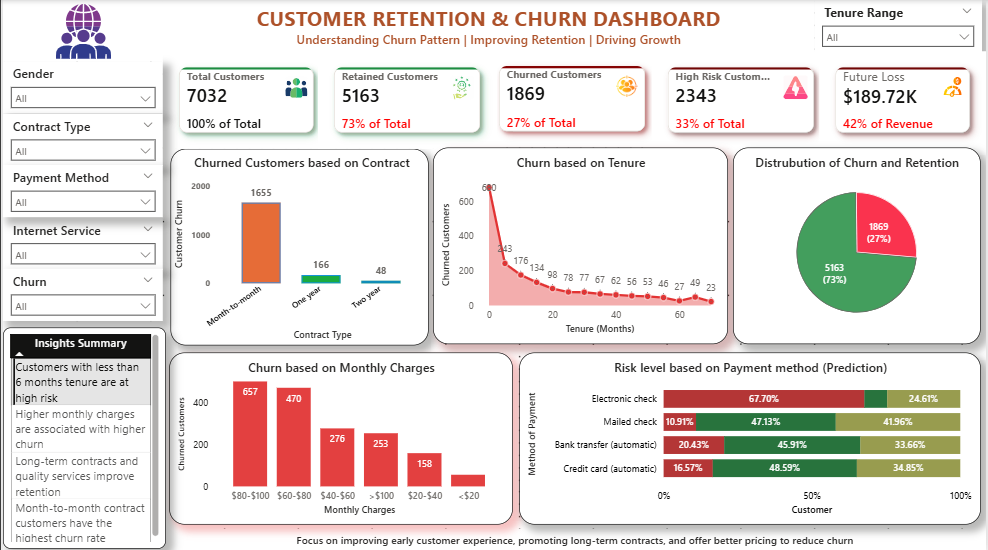

The page's visual inventory and layout, read from the dashboard file:
{"tool":"powerbi","page":{"name":"Executive Overview","canvas":[1280,720],"ordinal":0},"visuals":[{"type":"slicer","fields":{"Values":["Churn_Dashboard_Data.Tenure Group"]},"box":[1056,0,218,70],"z":0},{"type":"cardVisual","fields":{"Data":["Churn_Dashboard_Data.Total Customers"]},"box":[208,66,217.3,127],"z":0,"group":"g1"},{"type":"cardVisual","fields":{"Data":["Churn_Dashboard_Data.Churned Customers"]},"box":[624.1,65,232.8,127],"z":1000,"group":"g1"},{"type":"slicer","fields":{"Values":["Churn_Dashboard_Data.Gender"]},"box":[0,80,208,67.6],"z":1000,"group":"g2"},{"type":"cardVisual","fields":{"Data":["Churn_Dashboard_Data.Retained Customers"]},"box":[409.8,66,232.8,127],"z":2000,"group":"g1"},{"type":"slicer","fields":{"Values":["Churn_Dashboard_Data.Contract"]},"box":[0,147.6,208,67.6],"z":2000,"group":"g2"},{"type":"textbox","box":[224,688,1040,32],"z":2000},{"type":"textbox","box":[208,0,848,80],"z":3000},{"type":"cardVisual","fields":{"Data":["Churn_Dashboard_Data.High Risk Customers"]},"box":[844.4,66,232.8,127],"z":3000,"group":"g1"},{"type":"slicer","fields":{"Values":["Churn_Dashboard_Data.Internet Service"]},"box":[0,282.8,208,67.6],"z":3000,"group":"g2"},{"type":"cardVisual","fields":{"Data":["Churn_Dashboard_Data.Future Loss"]},"box":[1061.7,66,217.3,127],"z":4000,"group":"g1"},{"type":"clusteredColumnChart","title":"Churned Customers based on  Contract ","fields":{"Category":["Churn_Dashboard_Data.Contract"],"Y":["Churn_Dashboard_Data.Churn By Contract"]},"box":[218,193,336,256],"z":4000},{"type":"slicer","fields":{"Values":["Churn_Dashboard_Data.Payment Method"]},"box":[0,215.2,208,67.6],"z":4000,"group":"g2"},{"type":"group","id":"g1","title":"Group 1","box":[208,65,1071,128],"z":5000},{"type":"slicer","fields":{"Values":["Churn_Dashboard_Data.Churn"]},"box":[0,350.4,208,67.6],"z":5000,"group":"g2"},{"type":"group","id":"g2","title":"Group 2","box":[0,80,208,338],"z":6000},{"type":"lineChart","title":"Churn based on Tenure","fields":{"Y":["Churn_Dashboard_Data.Churn Rate"],"Category":["Churn_Dashboard_Data.Tenure (bins)"]},"box":[560,192,384,256],"z":7000},{"type":"pieChart","title":"Distrubution of Churn and Retention","fields":{"Y":["Churn_Dashboard_Data.Retained Customers","Churn_Dashboard_Data.Churned Customers"]},"box":[951,192,322,256],"z":8000},{"type":"clusteredColumnChart","title":"Churn based on Monthly Charges","fields":{"Category":["Churn_Dashboard_Data.Monthly Charges Bucket"],"Y":["Churn_Dashboard_Data.Churned By Charges Bucket"]},"box":[216,459,447,224],"z":9000},{"type":"hundredPercentStackedBarChart","title":"Risk level based on Payment method (Prediction)","fields":{"Category":["Churn_Dashboard_Data.Payment Method"],"Y":["Churn_Dashboard_Data.Total Customers"],"Series":["Churn_Dashboard_Data.Risk Level"]},"box":[672,459,601,224],"z":9001},{"type":"tableEx","fields":{"Values":["All Insights Summary.Insights Summary"]},"box":[0,427,212,288],"z":9002},{"type":"image","box":[0,0,208,80],"z":9003}]}

Visuals, with their boxes in screenshot pixels (x1, y1, x2, y2), scaled from the page's 1280x720 canvas onto the 988x550 screenshot:
slicer - Churn_Dashboard_Data.Tenure Group: 815,0,983,53
cardVisual - Churn_Dashboard_Data.Total Customers: 161,50,328,147
cardVisual - Churn_Dashboard_Data.Churned Customers: 482,50,661,147
slicer - Churn_Dashboard_Data.Gender: 0,61,161,113
cardVisual - Churn_Dashboard_Data.Retained Customers: 316,50,496,147
slicer - Churn_Dashboard_Data.Contract: 0,113,161,164
textbox: 173,526,976,549
textbox: 161,0,815,61
cardVisual - Churn_Dashboard_Data.High Risk Customers: 652,50,831,147
slicer - Churn_Dashboard_Data.Internet Service: 0,216,161,268
cardVisual - Churn_Dashboard_Data.Future Loss: 819,50,987,147
"Churned Customers based on  Contract " clusteredColumnChart: 168,147,428,343
slicer - Churn_Dashboard_Data.Payment Method: 0,164,161,216
"Group 1" group: 161,50,987,147
slicer - Churn_Dashboard_Data.Churn: 0,268,161,319
"Group 2" group: 0,61,161,319
"Churn based on Tenure" lineChart: 432,147,729,342
"Distrubution of Churn and Retention" pieChart: 734,147,983,342
"Churn based on Monthly Charges" clusteredColumnChart: 167,351,512,522
"Risk level based on Payment method (Prediction)" hundredPercentStackedBarChart: 519,351,983,522
tableEx - All Insights Summary.Insights Summary: 0,326,164,546
image: 0,0,161,61
